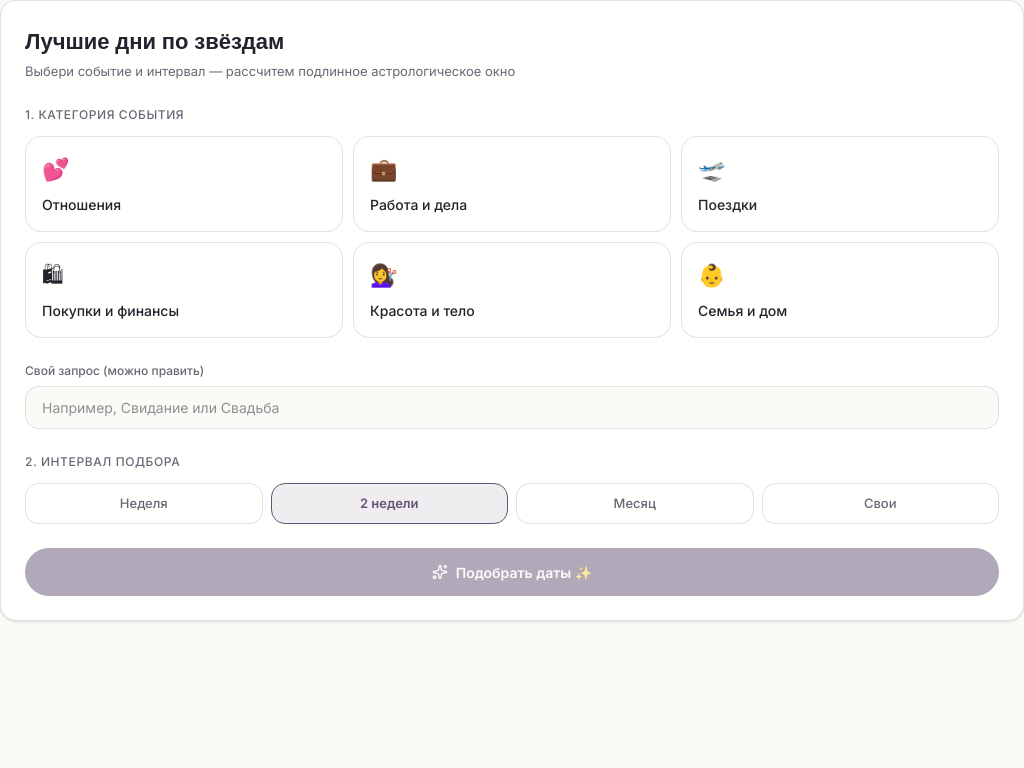
Test: ElectionForm v2 › clicks category to open subcategories, clicks subcategory to fill custom text
The image size is (1024, 768).
# Click relations category
Click the button with test id "election-category-card-relations" at (82, 204), box top-left (25, 136), bottom-right (343, 232)
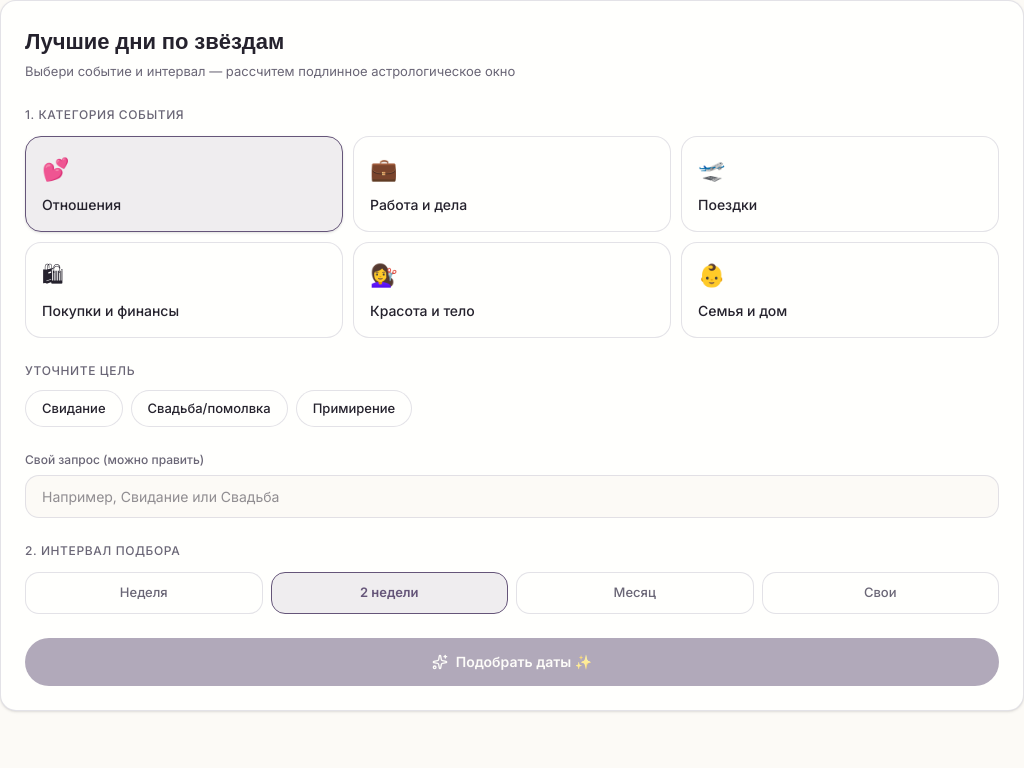
Expected: the button with test id "election-sub-chip-wedding" is shown
# Click wedding subchip
Click the button with test id "election-sub-chip-wedding" at (209, 408), box top-left (131, 390), bottom-right (288, 427)
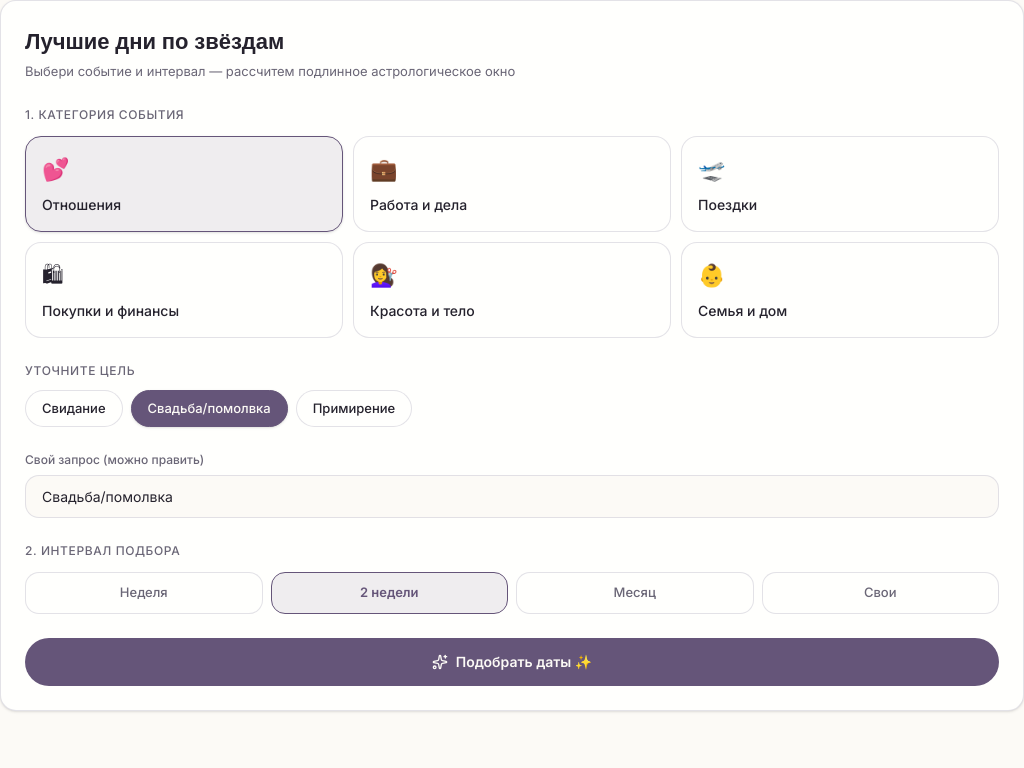
Expected: the field with test id "election-custom-input" holds "Свадьба/помолвка", top-left (25, 475), bottom-right (999, 518)
